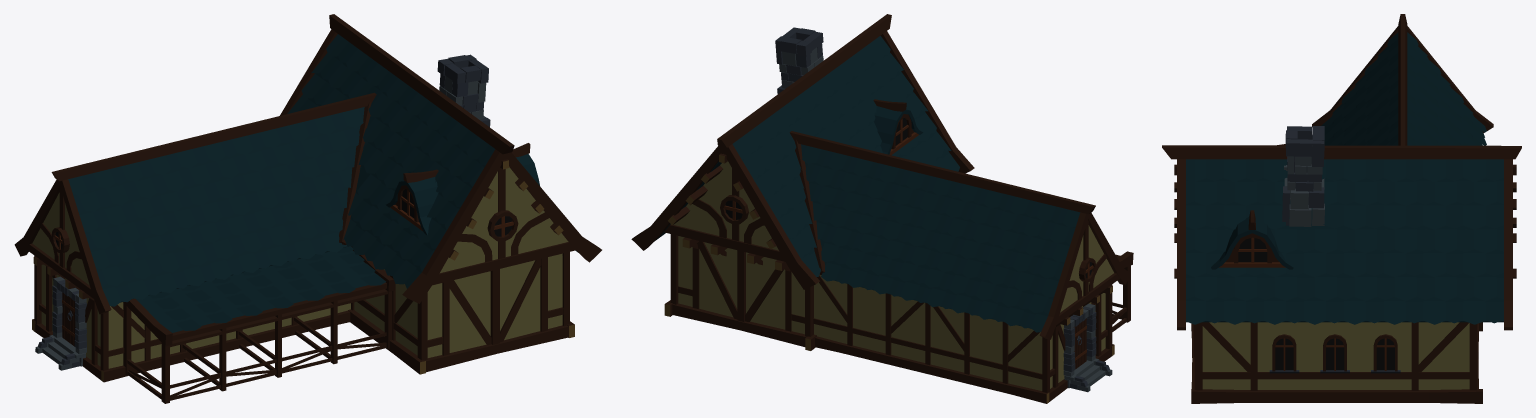
File: Stable.obj
3 views of the same model, side by side, from view 1: azimuth 30°, elevation 25°; view 2: azimuth 150°, elevation 25°; view 3: azimuth 270°, elevation 25° (orthographic). The views are drawn at different scales.
Parts seen in each view (by area): view 1: Stable_Cube.195; view 2: Stable_Cube.195; view 3: Stable_Cube.195.
Boxes of the visible parts, left/top/right/bottom form: Stable_Cube.195: left=14, top=14, right=601, bottom=403; Stable_Cube.195: left=631, top=14, right=1133, bottom=403; Stable_Cube.195: left=1162, top=14, right=1521, bottom=403.
Size of the model in its own units: 4.7 by 2.49 by 3.33.
